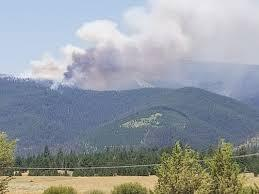yanwu: (34, 1, 258, 89)
